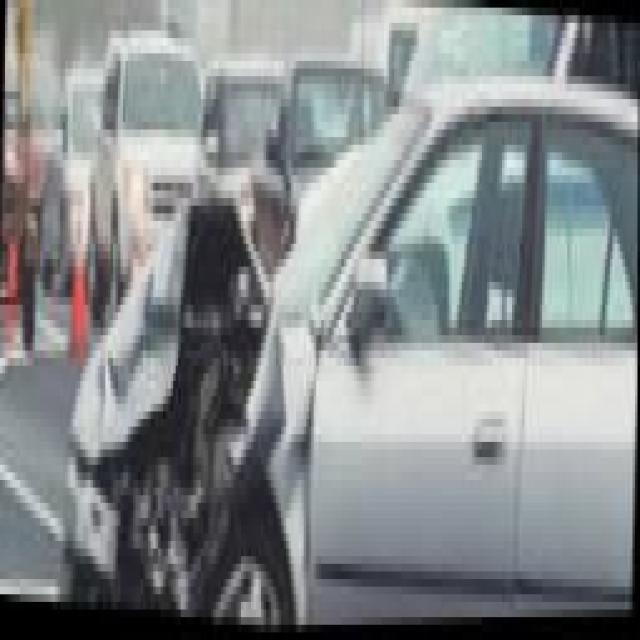Bonnet: (73, 199, 308, 522)
Bumper: (55, 464, 218, 614)
Light: (160, 451, 217, 540)
